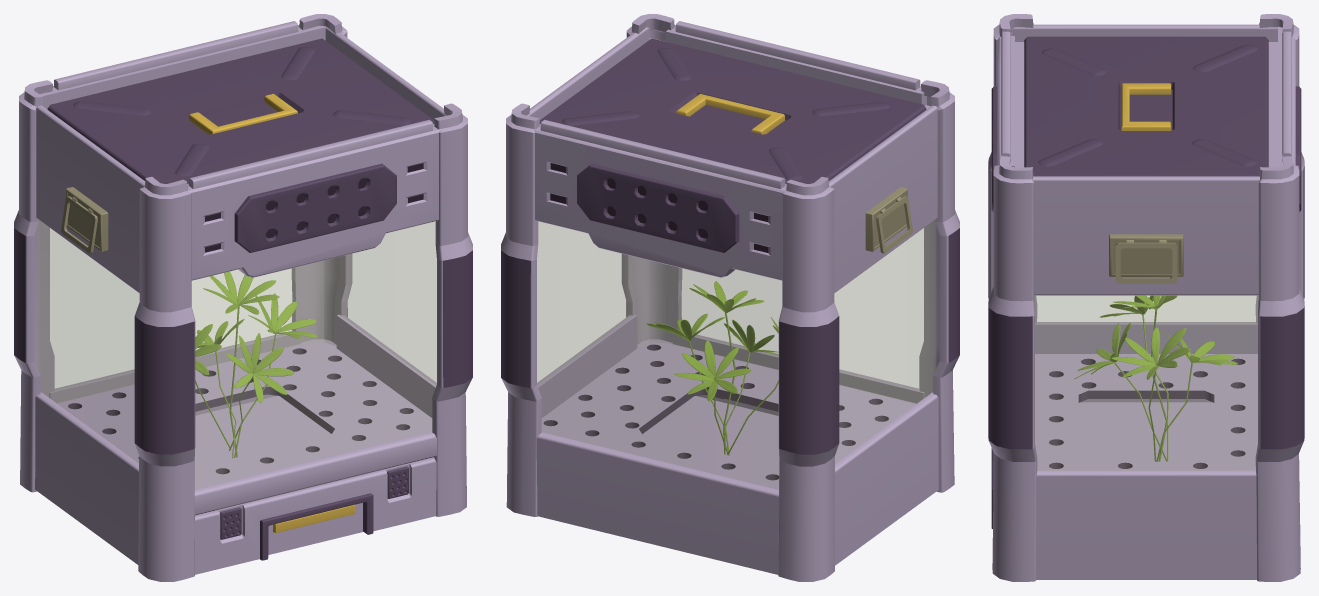
Rendered from printer-3d.glb.
The picture shows the model from 3 angles, left to right: view 1: azimuth 30°, elevation 25°; view 2: azimuth 150°, elevation 25°; view 3: azimuth 270°, elevation 25°; orthographic projection. The views are drawn at different scales.
Parts seen in each view (by area): view 1: pCube10_____________________________________________________, pCube1_phong2_0; view 2: pCube10_____________________________________________________, pCube1_phong2_0; view 3: pCube10_____________________________________________________, pCube1_phong2_0.
Boxes of the visible parts, box(x1,y1,x2,y2) form: pCube10_____________________________________________________: box(14, 14, 472, 581); pCube1_phong2_0: box(38, 220, 436, 488); pCube10_____________________________________________________: box(501, 14, 959, 581); pCube1_phong2_0: box(537, 220, 935, 489); pCube10_____________________________________________________: box(988, 14, 1304, 581); pCube1_phong2_0: box(1034, 296, 1258, 470).
Bounding box in the file's own units: 0.4021 × 0.45 × 0.3157.
2 materials, 2 textured.
